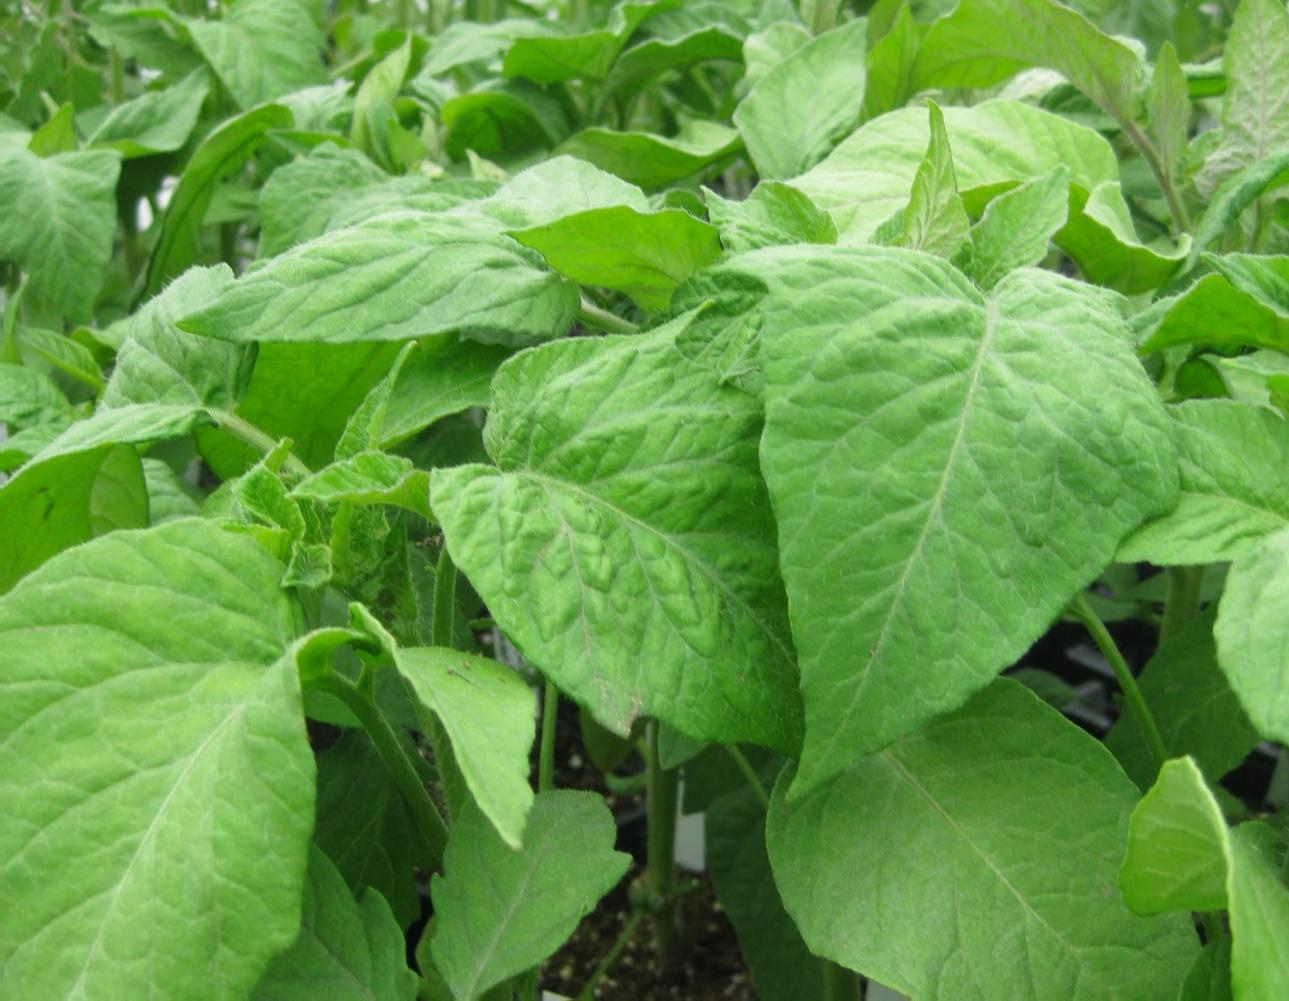Tomato leaf: (752, 198, 1195, 804), (184, 142, 630, 348)
